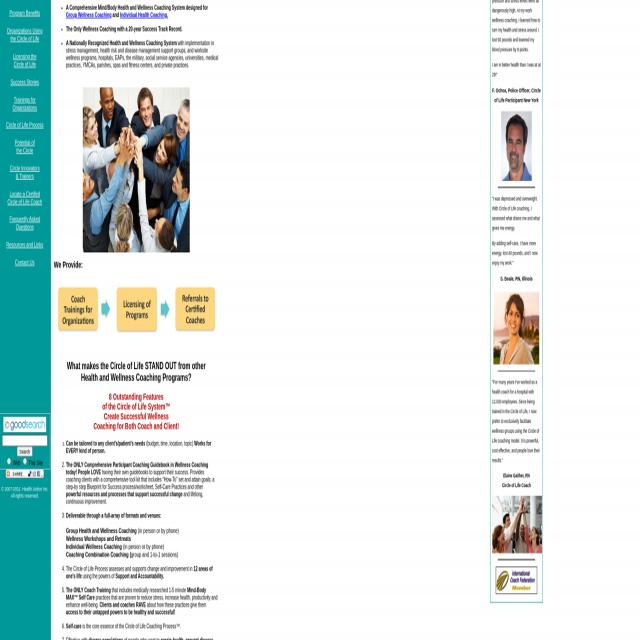button: (84, 87, 190, 252), (494, 290, 540, 364), (493, 496, 543, 554), (502, 111, 532, 181), (117, 288, 157, 332), (176, 287, 215, 332), (58, 288, 98, 331), (496, 566, 538, 594), (5, 417, 47, 432), (6, 469, 44, 478), (18, 447, 34, 458)
field: (3, 435, 49, 446), (23, 458, 27, 465), (7, 458, 11, 464)
